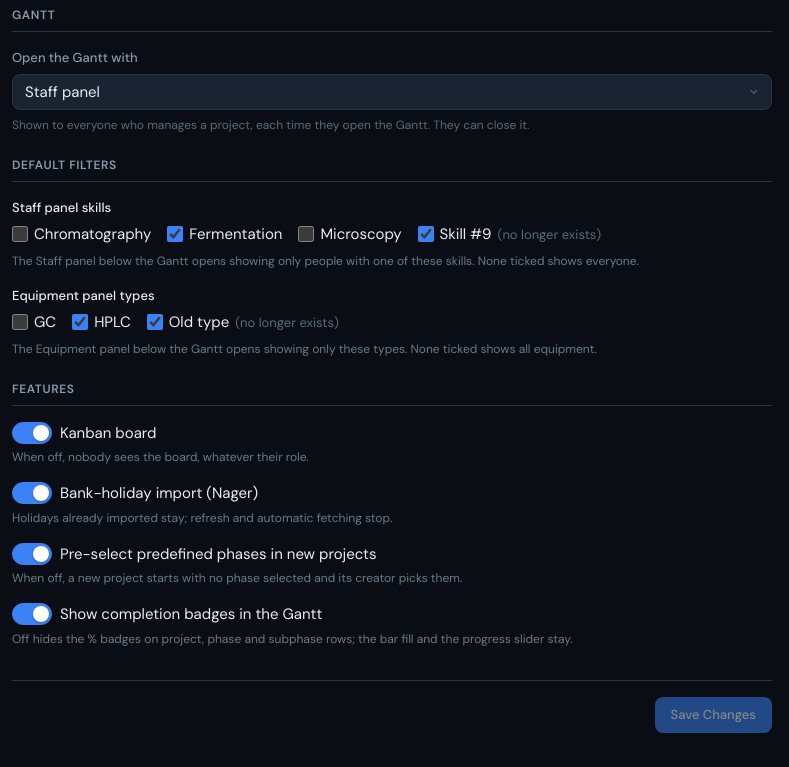
it: DefaultsPanel › saves only the keys that changed, and does not re-read /auth/me without a Kanban change
Expected: the dropdown labelled "Open the Gantt with" is shown, 12,74 -> 772,110
Click the switch labelled "Pre-select predefined phases in new projects" at (19, 554), box 11,546 -> 27,562
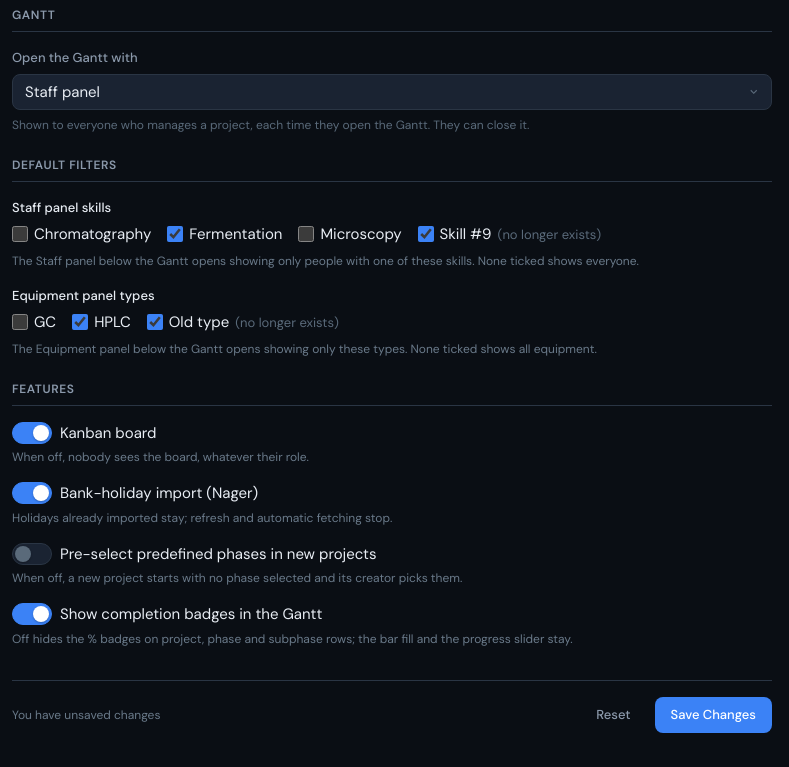
Click the button "Save Changes" at (713, 714), box 655,696 -> 772,732
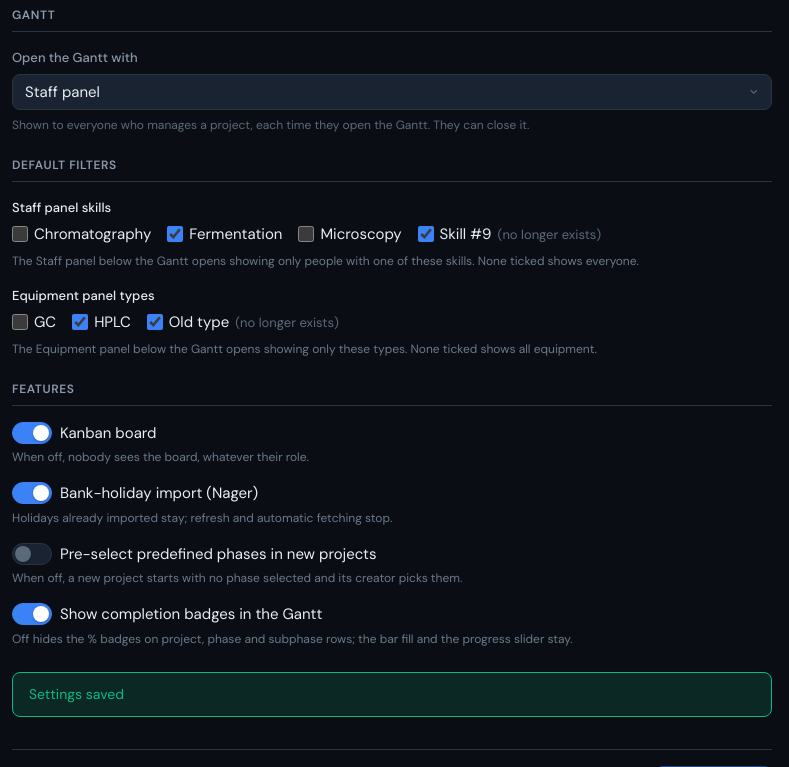
Result: the text "Settings saved" is shown at 29,684 -> 124,702
